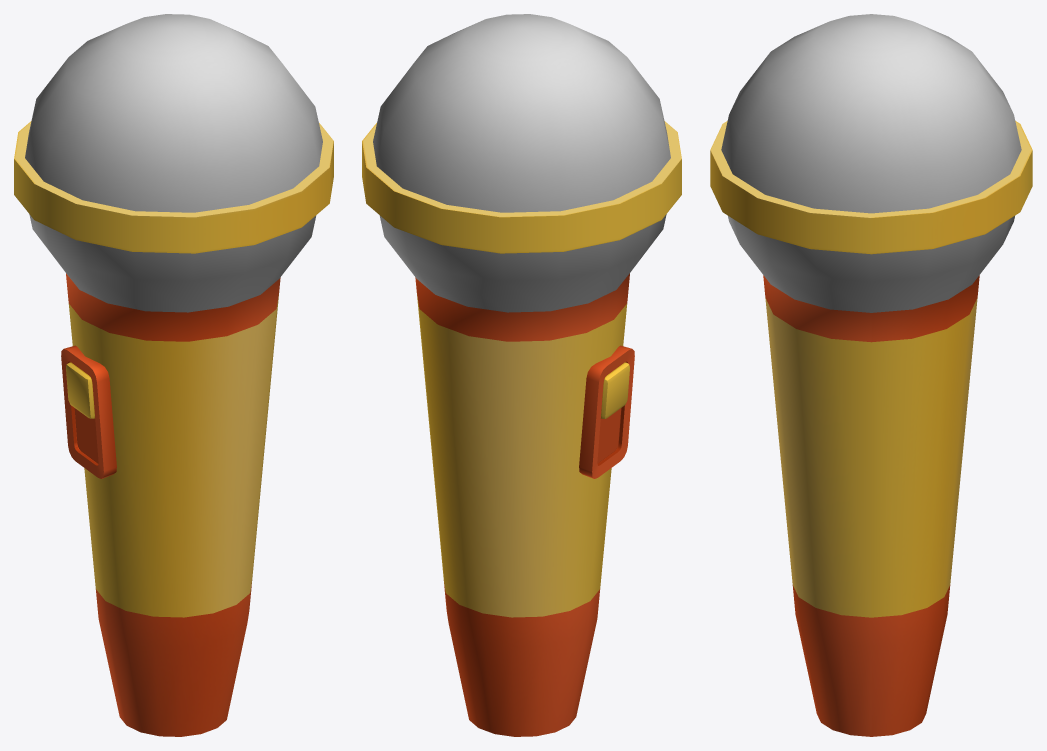
Rendered from mike.FBX.
The picture shows the model from 3 angles, left to right: view 1: azimuth 30°, elevation 25°; view 2: azimuth 150°, elevation 25°; view 3: azimuth 270°, elevation 25°; orthographic projection.
Visible parts, largest first — view 1: mike; view 2: mike; view 3: mike.
Part boxes in pixels (x1,y1,x2,y2): mike: [14, 14, 333, 736]; mike: [362, 14, 681, 736]; mike: [710, 14, 1032, 736].
Size of the model in its own units: 19.18 by 45 by 19.18.
